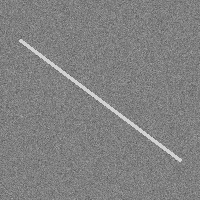scratches: (30, 30, 170, 170)
